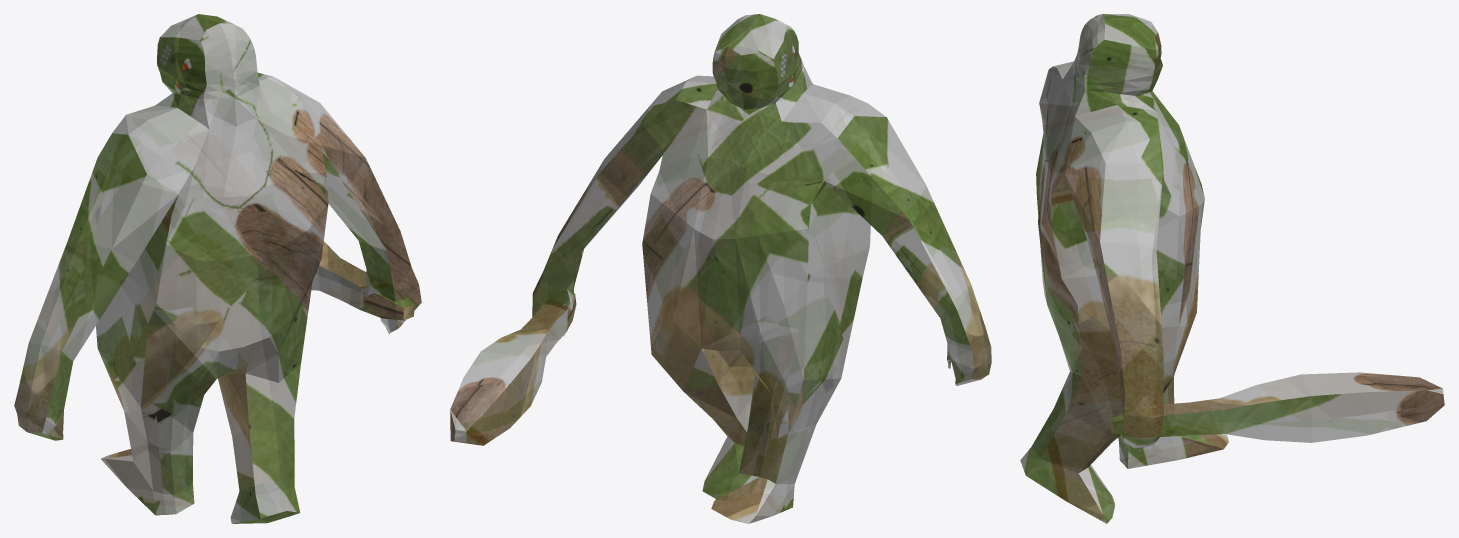
The model's file is Enemigo217.obj.
3 views of the same model, side by side, from view 1: azimuth 30°, elevation 25°; view 2: azimuth 150°, elevation 25°; view 3: azimuth 270°, elevation 25° (orthographic). The views are drawn at different scales.
Visible parts, largest first — view 1: Cube; view 2: Cube; view 3: Cube.
Part boxes in pixels (<box>): Cube: <box>14,14,421,523</box>; Cube: <box>450,14,991,523</box>; Cube: <box>1020,14,1444,523</box>.
Size of the model in its own units: 2.49 by 2.84 by 2.27.
